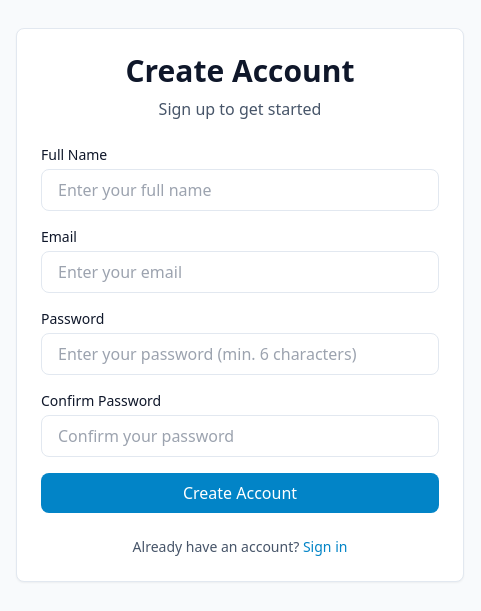
Register › Form Validation › shows error for invalid email format
Type "Test User" into the field labelled "Full Name" at coordinates (240, 190), box [41,169,439,211]
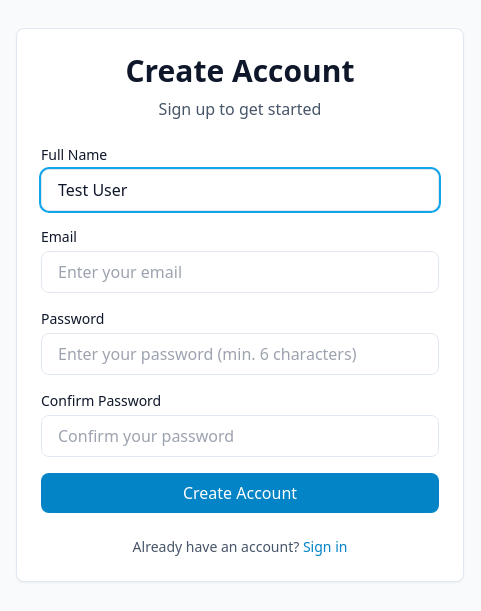
Type "invalid-email" into the field labelled "Email" at coordinates (240, 272), box [41,251,439,293]
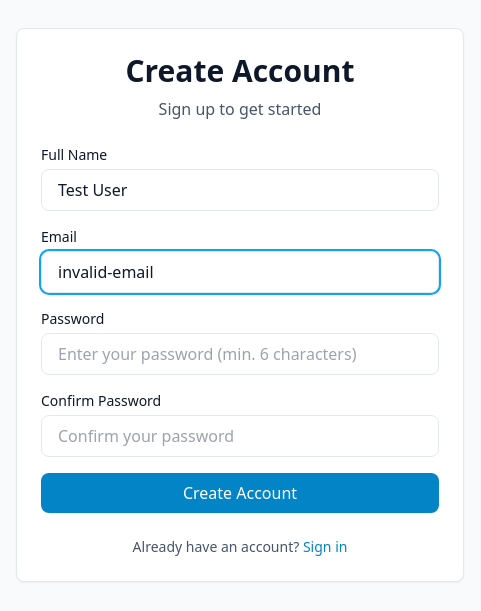
Type "password123" into the password field labelled "Password" at coordinates (240, 354), box [41,333,439,375]
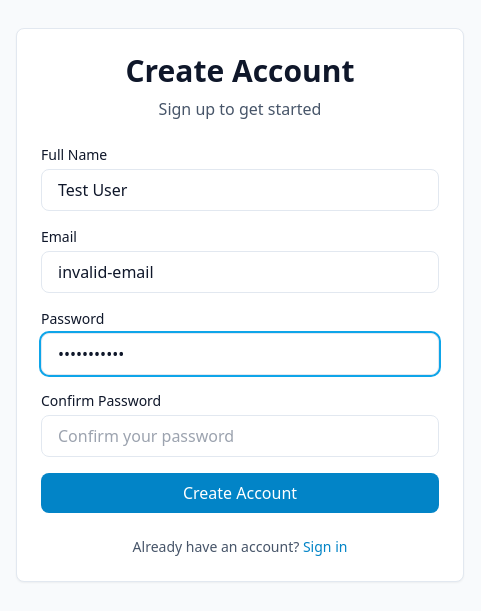
Type "password123" into the password field labelled "Confirm Password" at coordinates (240, 436), box [41,415,439,457]
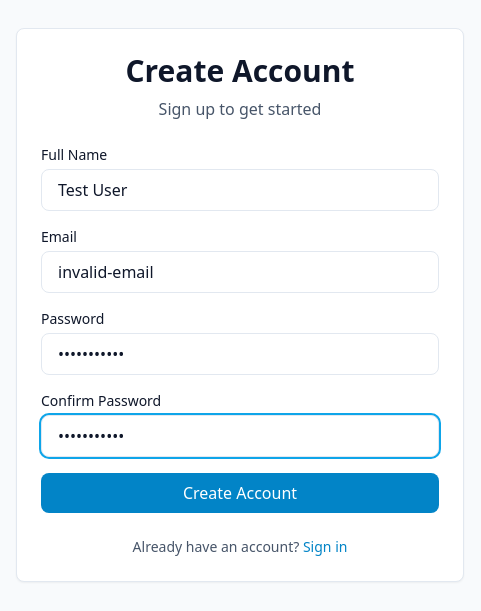
Click the button "Create Account" at coordinates (240, 493), box [41,473,439,513]
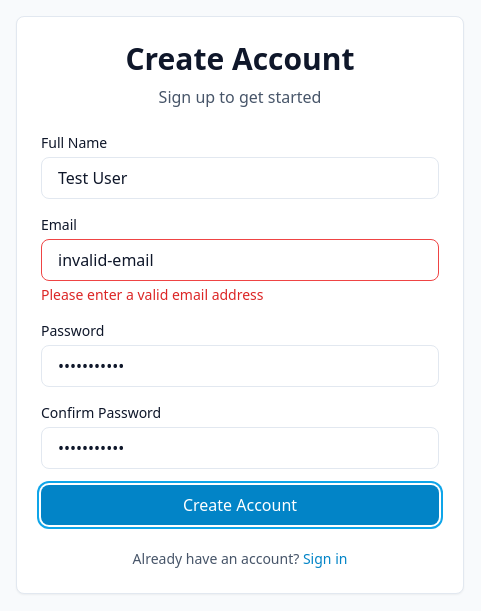
Expected: the text "Please enter a valid email address" is shown, [41,285,264,304]
